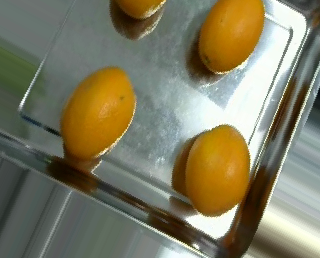Orange: (61, 65, 137, 157), (184, 123, 251, 218), (196, 1, 265, 74)
